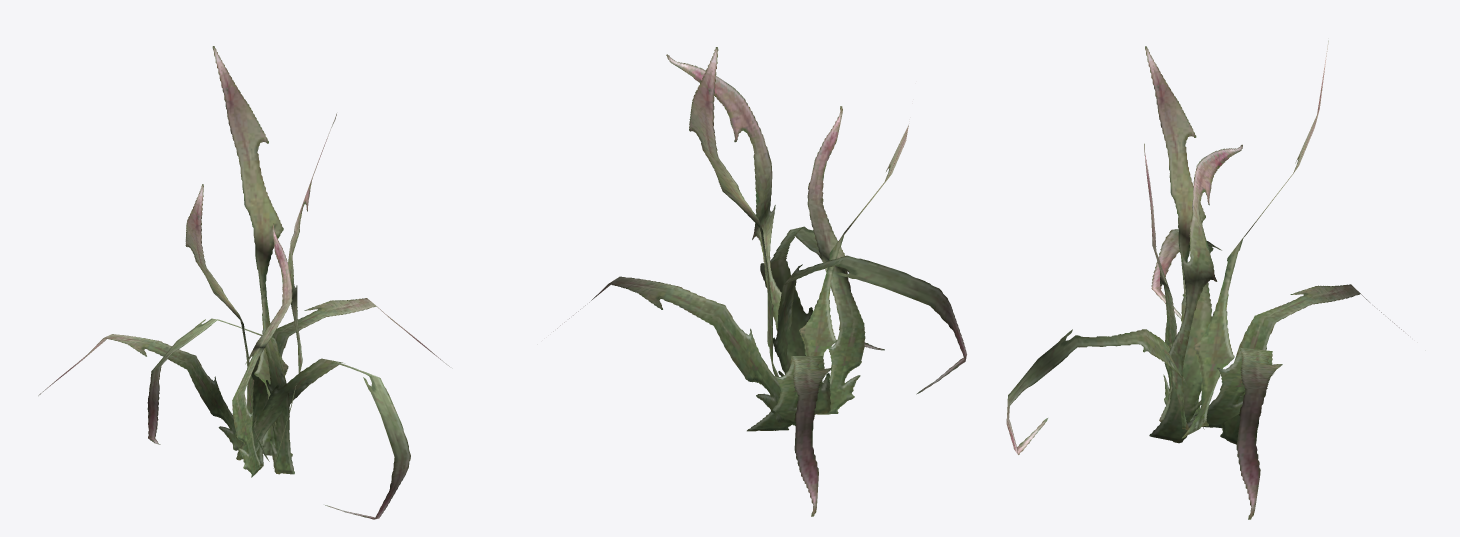
File: core_leaf_razorgrass_mtns_a1_l0.fbx
The picture shows the model from 3 angles, left to right: view 1: azimuth 30°, elevation 25°; view 2: azimuth 150°, elevation 25°; view 3: azimuth 270°, elevation 25°; orthographic projection. The views are drawn at different scales.
Visible parts, largest first — view 1: mesh_node; view 2: mesh_node; view 3: mesh_node.
Part boxes in pixels (bbox=[...]): mesh_node: bbox=[38, 46, 449, 519]; mesh_node: bbox=[553, 47, 966, 516]; mesh_node: bbox=[1006, 40, 1408, 519].
Size of the model in its own units: 1.36 by 1.4 by 1.28.
